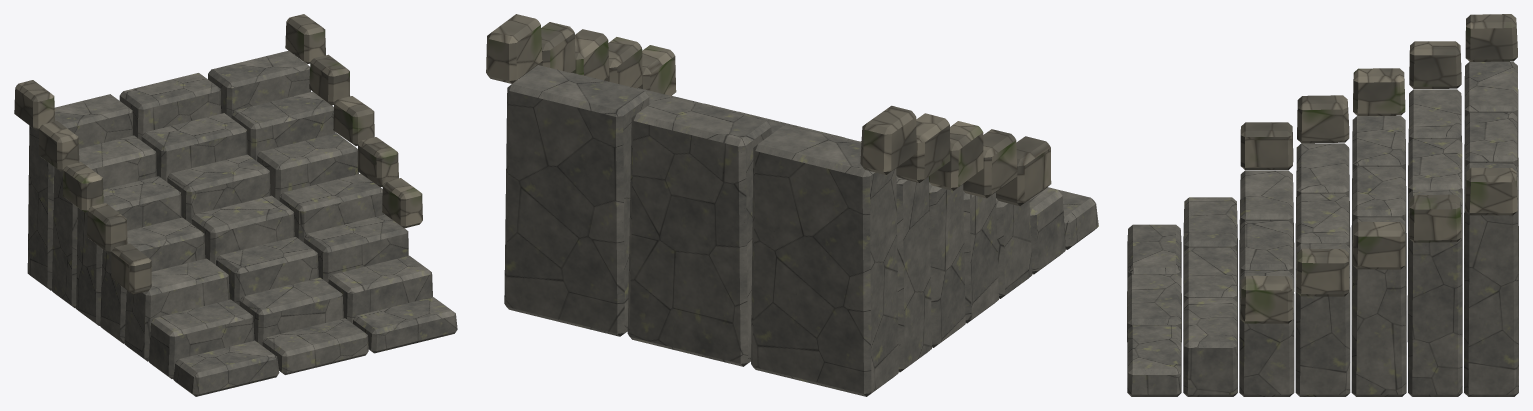
The model's file is RuinStairs.fbx.
3 renders of one model, left to right at view 1: azimuth 30°, elevation 25°; view 2: azimuth 150°, elevation 25°; view 3: azimuth 270°, elevation 25°, orthographic. The views are drawn at different scales.
Parts seen in each view (by area): view 1: RuinStairs; view 2: RuinStairs; view 3: RuinStairs.
Part boxes in pixels (box(x1,y1,x2,y2)): RuinStairs: box(14, 14, 457, 396); RuinStairs: box(486, 14, 1098, 396); RuinStairs: box(1127, 14, 1518, 396).
Size of the model in its own units: 329 by 211 by 328.
